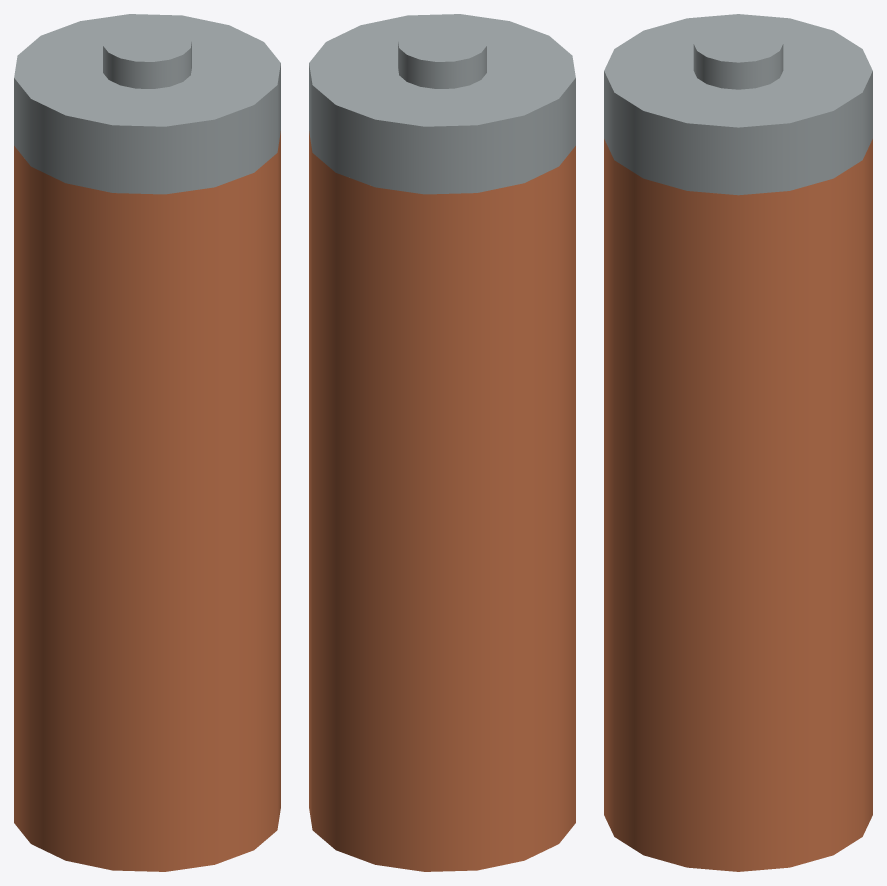
File: scavengers-loot-library-cylindrical-cell-ffe43b63__2536.glb
The picture shows the model from 3 angles, left to right: view 1: azimuth 30°, elevation 25°; view 2: azimuth 150°, elevation 25°; view 3: azimuth 270°, elevation 25°; orthographic projection.
Visible parts, largest first — view 1: cylindrical-cell; view 2: cylindrical-cell; view 3: cylindrical-cell.
Part boxes in pixels (x1,y1,x2,y2): cylindrical-cell: [14, 14, 280, 871]; cylindrical-cell: [309, 14, 575, 871]; cylindrical-cell: [604, 14, 872, 871].
Bounding box in the file's own units: 0.018 × 0.057 × 0.018.
